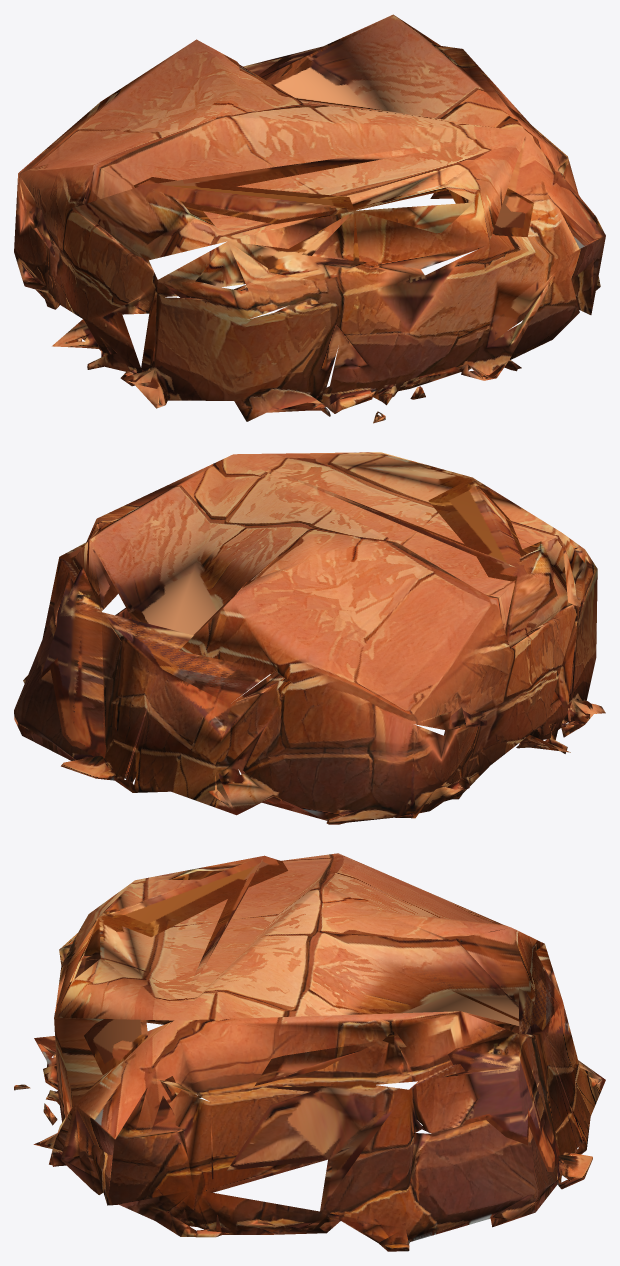
The model's file is EX_Env_Boulder.fbx.
3 renders of one model, top to bottom at view 1: azimuth 30°, elevation 25°; view 2: azimuth 150°, elevation 25°; view 3: azimuth 270°, elevation 25°, orthographic. The views are drawn at different scales.
Parts seen in each view (by area): view 1: texture_mapping; view 2: texture_mapping; view 3: texture_mapping.
Boxes of the visible parts, x1,y1,x2,y2 form: texture_mapping: (14, 14, 605, 423); texture_mapping: (14, 452, 605, 824); texture_mapping: (14, 853, 605, 1251).
Size of the model in its own units: 0.9418 by 0.9233 by 0.3527.
1 material, 1 textured.
